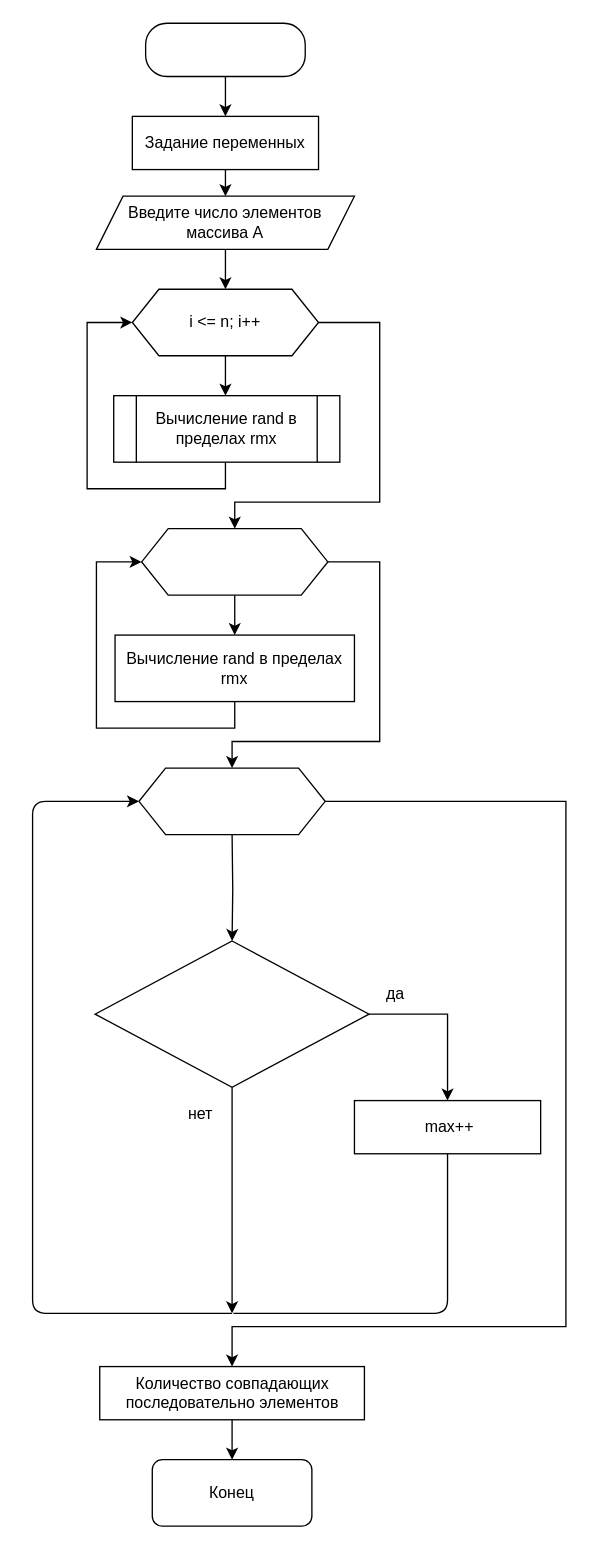
The diagram is 600 pixels wide and 1549 high, and some of its shapes have lost their labels. The shapes that lost their labels are listed below. From the top down, each one's centre as x and y in pixels, then its label:
At (224,49): "Начало".
At (234,561): "i < sz1; i++".
At (231,801): "i < sz1 && n < sz2; i++ && n++".
At (231,1013): "*(ptr1 + i) == *(ptr2 + n) && *(ptr1 - i) == *(ptr2 - n)".
